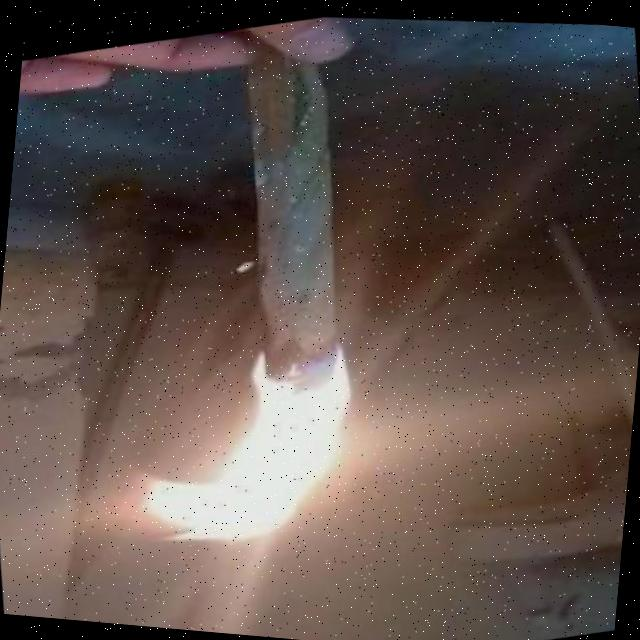fire: (118, 316, 366, 567)
